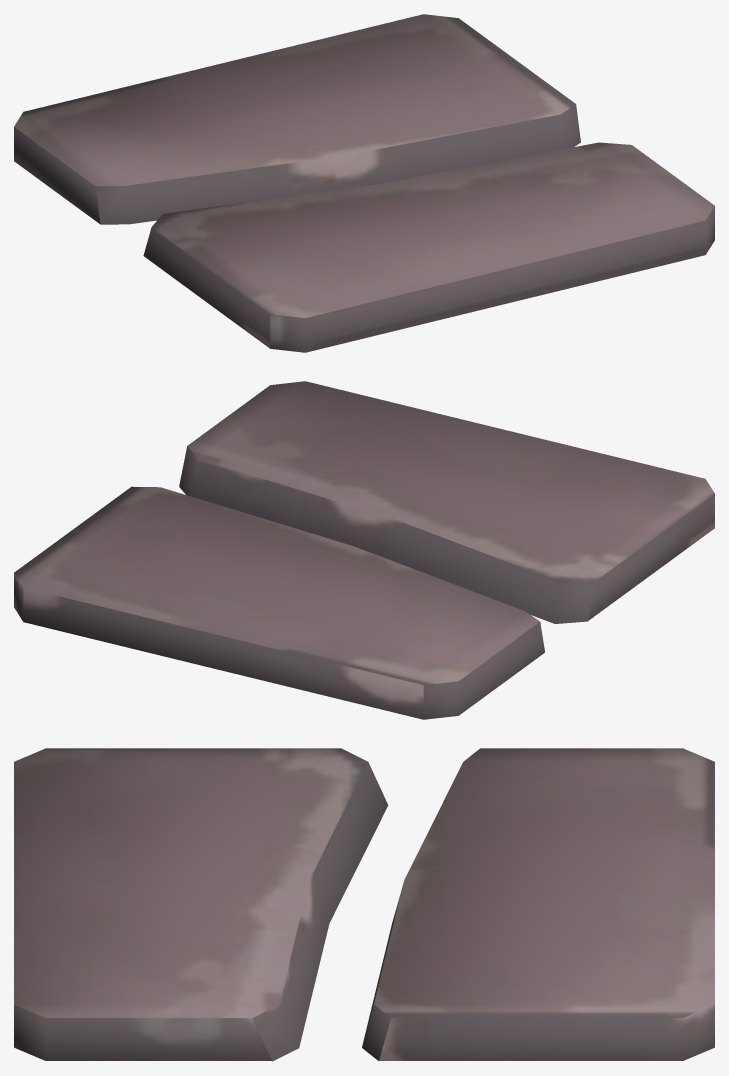
File: DecoFloorTile7_4.fbx
3 renders of one model, top to bottom at view 1: azimuth 30°, elevation 25°; view 2: azimuth 150°, elevation 25°; view 3: azimuth 270°, elevation 25°, orthographic. The views are drawn at different scales.
Parts seen in each view (by area): view 1: Stoneplate02, Stoneplate01; view 2: Stoneplate01, Stoneplate02; view 3: Stoneplate01, Stoneplate02.
Part boxes in pixels (bbox=[...]): Stoneplate02: bbox=[14, 14, 580, 224]; Stoneplate01: bbox=[143, 142, 714, 352]; Stoneplate01: bbox=[179, 381, 714, 623]; Stoneplate02: bbox=[14, 486, 544, 719]; Stoneplate01: bbox=[14, 748, 388, 1061]; Stoneplate02: bbox=[362, 748, 714, 1060].
Size of the model in its own units: 1.13 by 0.0849 by 1.24.
